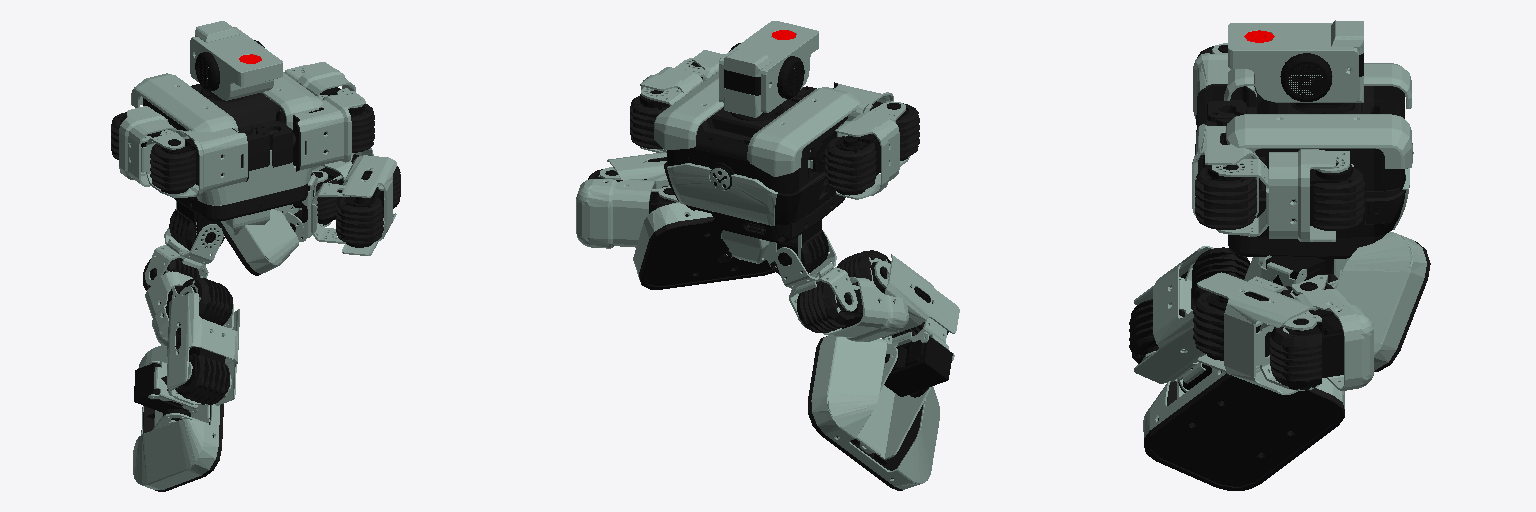
The robot description file, URDF, robot "yanshee":
<?xml version="1.0"?>
<!-- Generated by yanshee_sim/tools/build_models.py from the Webots Yanshee model. Do not edit by hand.
     Joint names are YanAPI servo names; joint position (rad) = servo angle (deg) in radians. -->
<robot name="yanshee">
  <material name="c0"><color rgba="0.1 0.1 0.1 1"/></material>
  <material name="c1"><color rgba="0.13 0.13 0.13 1"/></material>
  <material name="c2"><color rgba="0.58 0.67 0.64 1"/></material>
  <material name="c3"><color rgba="1 0 0 1"/></material>
  <link name="base_link"/>
  <joint name="base_to_torso" type="fixed"><parent link="base_link"/><child link="torso_link"/><origin xyz="0 0 0" rpy="0 0 0"/></joint>
  <link name="torso_link">
    <inertial><origin xyz="-0.00085 0.00213 0.27696" rpy="0 0 0"/><mass value="0.872"/><inertia ixx="0.00160682" ixy="7.04e-06" ixz="9.18e-06" iyy="0.00176299" iyz="5.107e-05" izz="0.00151442"/></inertial>
    <visual><geometry><mesh filename="package://yanshee_description/meshes/base_link_0.stl"/></geometry><material name="c0"/></visual>
    <visual><geometry><mesh filename="package://yanshee_description/meshes/base_link_1.stl"/></geometry><material name="c1"/></visual>
    <visual><geometry><mesh filename="package://yanshee_description/meshes/base_link_2.stl"/></geometry><material name="c2"/></visual>
    <collision><geometry><mesh filename="package://yanshee_description/meshes/base_link_collision.stl"/></geometry></collision>
  </link>
  <link name="RightShoulderRoll_link">
    <inertial><origin xyz="0.00897508 -0.000891211 -1.88508e-06" rpy="0 0 0"/><mass value="0.008"/><inertia ixx="2.11202e-06" ixy="4.92363e-08" ixz="7.42767e-09" iyy="1.05998e-06" iyz="2.46316e-12" izz="2.31e-06"/></inertial>
    <visual><geometry><mesh filename="package://yanshee_description/meshes/RightShoulderRoll_0.stl"/></geometry><material name="c2"/></visual>
    <collision><geometry><mesh filename="package://yanshee_description/meshes/RightShoulderRoll_collision.stl"/></geometry></collision>
  </link>
  <link name="RightShoulderFlex_link">
    <inertial><origin xyz="0.00662606 -0.000726574 -0.00780331" rpy="0 0 0"/><mass value="0.085"/><inertia ixx="3.25733e-05" ixy="4.56914e-08" ixz="9.24368e-06" iyy="3.6612e-05" iyz="-5.48963e-08" izz="2.93867e-05"/></inertial>
    <visual><geometry><mesh filename="package://yanshee_description/meshes/RightShoulderFlex_0.stl"/></geometry><material name="c0"/></visual>
    <visual><geometry><mesh filename="package://yanshee_description/meshes/RightShoulderFlex_1.stl"/></geometry><material name="c1"/></visual>
    <visual><geometry><mesh filename="package://yanshee_description/meshes/RightShoulderFlex_2.stl"/></geometry><material name="c2"/></visual>
    <collision><geometry><mesh filename="package://yanshee_description/meshes/RightShoulderFlex_collision.stl"/></geometry></collision>
  </link>
  <link name="RightElbowFlex_link">
    <inertial><origin xyz="-0.00909435 -0.00012479 -0.0131183" rpy="0 0 0"/><mass value="0.098"/><inertia ixx="6.07977e-05" ixy="-2.85189e-07" ixz="-2.66216e-05" iyy="7.65721e-05" iyz="-3.8096e-07" izz="4.06923e-05"/></inertial>
    <visual><geometry><mesh filename="package://yanshee_description/meshes/RightElbowFlex_0.stl"/></geometry><material name="c0"/></visual>
    <visual><geometry><mesh filename="package://yanshee_description/meshes/RightElbowFlex_1.stl"/></geometry><material name="c1"/></visual>
    <visual><geometry><mesh filename="package://yanshee_description/meshes/RightElbowFlex_2.stl"/></geometry><material name="c2"/></visual>
    <collision><geometry><mesh filename="package://yanshee_description/meshes/RightElbowFlex_collision.stl"/></geometry></collision>
  </link>
  <link name="LeftShoulderRoll_link">
    <inertial><origin xyz="-0.00897771 -0.000885221 -6.14422e-06" rpy="0 0 0"/><mass value="0.008"/><inertia ixx="2.11202e-06" ixy="-4.34998e-08" ixz="-2.51529e-08" iyy="1.05998e-06" iyz="7.83782e-12" izz="2.31e-06"/></inertial>
    <visual><geometry><mesh filename="package://yanshee_description/meshes/LeftShoulderRoll_0.stl"/></geometry><material name="c2"/></visual>
    <collision><geometry><mesh filename="package://yanshee_description/meshes/LeftShoulderRoll_collision.stl"/></geometry></collision>
  </link>
  <link name="LeftShoulderFlex_link">
    <inertial><origin xyz="-0.00662422 -0.000796844 -0.00777867" rpy="0 0 0"/><mass value="0.085"/><inertia ixx="3.2571e-05" ixy="-4.58638e-08" ixz="-9.24408e-06" iyy="3.6612e-05" iyz="-5.52674e-08" izz="2.9389e-05"/></inertial>
    <visual><geometry><mesh filename="package://yanshee_description/meshes/LeftShoulderFlex_0.stl"/></geometry><material name="c0"/></visual>
    <visual><geometry><mesh filename="package://yanshee_description/meshes/LeftShoulderFlex_1.stl"/></geometry><material name="c1"/></visual>
    <visual><geometry><mesh filename="package://yanshee_description/meshes/LeftShoulderFlex_2.stl"/></geometry><material name="c2"/></visual>
    <collision><geometry><mesh filename="package://yanshee_description/meshes/LeftShoulderFlex_collision.stl"/></geometry></collision>
  </link>
  <link name="LeftElbowFlex_link">
    <inertial><origin xyz="0.00903128 -0.000224433 -0.0131983" rpy="0 0 0"/><mass value="0.098"/><inertia ixx="6.03772e-05" ixy="2.87493e-07" ixz="2.67766e-05" iyy="7.65721e-05" iyz="-3.77576e-07" izz="4.11127e-05"/></inertial>
    <visual><geometry><mesh filename="package://yanshee_description/meshes/LeftElbowFlex_0.stl"/></geometry><material name="c0"/></visual>
    <visual><geometry><mesh filename="package://yanshee_description/meshes/LeftElbowFlex_1.stl"/></geometry><material name="c1"/></visual>
    <visual><geometry><mesh filename="package://yanshee_description/meshes/LeftElbowFlex_2.stl"/></geometry><material name="c2"/></visual>
    <collision><geometry><mesh filename="package://yanshee_description/meshes/LeftElbowFlex_collision.stl"/></geometry></collision>
  </link>
  <link name="RightHipLR_link">
    <inertial><origin xyz="0.000508162 -0.000188115 -0.0221787" rpy="0 0 0"/><mass value="0.013"/><inertia ixx="3.83e-06" ixy="1.20899e-08" ixz="8.00086e-08" iyy="3.88198e-06" iyz="9.69836e-08" izz="3.59002e-06"/></inertial>
    <visual><geometry><mesh filename="package://yanshee_description/meshes/RightHipLR_0.stl"/></geometry><material name="c2"/></visual>
    <collision><geometry><mesh filename="package://yanshee_description/meshes/RightHipLR_collision.stl"/></geometry></collision>
  </link>
  <link name="RightHipFB_link">
    <inertial><origin xyz="0.000804837 0.0198936 -0.0200165" rpy="0 0 0"/><mass value="0.14"/><inertia ixx="0.000105442" ixy="1.45879e-07" ixz="6.27895e-08" iyy="7.63611e-05" iyz="2.47906e-05" izz="6.21288e-05"/></inertial>
    <visual><geometry><mesh filename="package://yanshee_description/meshes/RightHipFB_0.stl"/></geometry><material name="c0"/></visual>
    <visual><geometry><mesh filename="package://yanshee_description/meshes/RightHipFB_1.stl"/></geometry><material name="c1"/></visual>
    <visual><geometry><mesh filename="package://yanshee_description/meshes/RightHipFB_2.stl"/></geometry><material name="c2"/></visual>
    <collision><geometry><mesh filename="package://yanshee_description/meshes/RightHipFB_collision.stl"/></geometry></collision>
  </link>
  <link name="RightKneeFlex_link">
    <inertial><origin xyz="-0.000168258 -0.0161649 -0.0419847" rpy="0 0 0"/><mass value="0.094"/><inertia ixx="4.46821e-05" ixy="3.66053e-07" ixz="5.54682e-07" iyy="5.08932e-05" iyz="-8.80772e-06" izz="3.11468e-05"/></inertial>
    <visual><geometry><mesh filename="package://yanshee_description/meshes/RightKneeFlex_0.stl"/></geometry><material name="c0"/></visual>
    <visual><geometry><mesh filename="package://yanshee_description/meshes/RightKneeFlex_1.stl"/></geometry><material name="c1"/></visual>
    <visual><geometry><mesh filename="package://yanshee_description/meshes/RightKneeFlex_2.stl"/></geometry><material name="c2"/></visual>
    <collision><geometry><mesh filename="package://yanshee_description/meshes/RightKneeFlex_collision.stl"/></geometry></collision>
  </link>
  <link name="RightAnkleFB_link">
    <inertial><origin xyz="0.000613193 -0.000785591 -0.0453751" rpy="0 0 0"/><mass value="0.063"/><inertia ixx="1.4352e-05" ixy="7.33984e-08" ixz="-3.61556e-07" iyy="2.08261e-05" iyz="-3.77149e-07" izz="1.79639e-05"/></inertial>
    <visual><geometry><mesh filename="package://yanshee_description/meshes/RightAnkleFB_0.stl"/></geometry><material name="c0"/></visual>
    <visual><geometry><mesh filename="package://yanshee_description/meshes/RightAnkleFB_1.stl"/></geometry><material name="c2"/></visual>
    <collision><geometry><mesh filename="package://yanshee_description/meshes/RightAnkleFB_collision.stl"/></geometry></collision>
  </link>
  <link name="RightAnkleUD_link">
    <inertial><origin xyz="0.0215583 -0.000420083 -0.0208296" rpy="0 0 0"/><mass value="0.093"/><inertia ixx="9.837e-05" ixy="-7.1419e-08" ixz="-1.92894e-06" iyy="6.29135e-05" iyz="1.58262e-06" izz="0.000142479"/></inertial>
    <visual><geometry><mesh filename="package://yanshee_description/meshes/RightAnkleUD_0.stl"/></geometry><material name="c1"/></visual>
    <visual><geometry><mesh filename="package://yanshee_description/meshes/RightAnkleUD_1.stl"/></geometry><material name="c2"/></visual>
    <collision><geometry><mesh filename="package://yanshee_description/meshes/RightAnkleUD_collision.stl"/></geometry></collision>
  </link>
  <link name="LeftHipLR_link">
    <inertial><origin xyz="-0.000492807 -0.000194718 -0.0222317" rpy="0 0 0"/><mass value="0.013"/><inertia ixx="3.83e-06" ixy="1.01631e-08" ixz="-8.00046e-08" iyy="3.88202e-06" iyz="-6.19088e-08" izz="3.58998e-06"/></inertial>
    <visual><geometry><mesh filename="package://yanshee_description/meshes/LeftHipLR_0.stl"/></geometry><material name="c2"/></visual>
    <collision><geometry><mesh filename="package://yanshee_description/meshes/LeftHipLR_collision.stl"/></geometry></collision>
  </link>
  <link name="LeftHipFB_link">
    <inertial><origin xyz="-0.000785601 0.0193734 -0.0197067" rpy="0 0 0"/><mass value="0.14"/><inertia ixx="0.000105442" ixy="-1.48987e-07" ixz="-6.07278e-08" iyy="9.1586e-05" iyz="1.28878e-05" izz="4.6904e-05"/></inertial>
    <visual><geometry><mesh filename="package://yanshee_description/meshes/LeftHipFB_0.stl"/></geometry><material name="c0"/></visual>
    <visual><geometry><mesh filename="package://yanshee_description/meshes/LeftHipFB_1.stl"/></geometry><material name="c1"/></visual>
    <visual><geometry><mesh filename="package://yanshee_description/meshes/LeftHipFB_2.stl"/></geometry><material name="c2"/></visual>
    <collision><geometry><mesh filename="package://yanshee_description/meshes/LeftHipFB_collision.stl"/></geometry></collision>
  </link>
  <link name="LeftKneeFlex_link">
    <inertial><origin xyz="0.000156598 -0.01642 -0.0417244" rpy="0 0 0"/><mass value="0.094"/><inertia ixx="4.46819e-05" ixy="-3.66741e-07" ixz="-5.54996e-07" iyy="5.06368e-05" iyz="-9.08696e-06" izz="3.14033e-05"/></inertial>
    <visual><geometry><mesh filename="package://yanshee_description/meshes/LeftKneeFlex_0.stl"/></geometry><material name="c0"/></visual>
    <visual><geometry><mesh filename="package://yanshee_description/meshes/LeftKneeFlex_1.stl"/></geometry><material name="c1"/></visual>
    <visual><geometry><mesh filename="package://yanshee_description/meshes/LeftKneeFlex_2.stl"/></geometry><material name="c2"/></visual>
    <collision><geometry><mesh filename="package://yanshee_description/meshes/LeftKneeFlex_collision.stl"/></geometry></collision>
  </link>
  <link name="LeftAnkleFB_link">
    <inertial><origin xyz="-0.000552222 -0.00155372 -0.0355275" rpy="0 0 0"/><mass value="0.063"/><inertia ixx="1.4352e-05" ixy="-7.1274e-08" ixz="3.61755e-07" iyy="2.08531e-05" iyz="2.53558e-07" izz="1.79369e-05"/></inertial>
    <visual><geometry><mesh filename="package://yanshee_description/meshes/LeftAnkleFB_0.stl"/></geometry><material name="c0"/></visual>
    <visual><geometry><mesh filename="package://yanshee_description/meshes/LeftAnkleFB_1.stl"/></geometry><material name="c2"/></visual>
    <collision><geometry><mesh filename="package://yanshee_description/meshes/LeftAnkleFB_collision.stl"/></geometry></collision>
  </link>
  <link name="LeftAnkleUD_link">
    <inertial><origin xyz="-0.0215562 -0.000459851 -0.0208287" rpy="0 0 0"/><mass value="0.093"/><inertia ixx="9.837e-05" ixy="7.15654e-08" ixz="1.92898e-06" iyy="6.29236e-05" iyz="1.82058e-06" izz="0.000142468"/></inertial>
    <visual><geometry><mesh filename="package://yanshee_description/meshes/LeftAnkleUD_0.stl"/></geometry><material name="c1"/></visual>
    <visual><geometry><mesh filename="package://yanshee_description/meshes/LeftAnkleUD_1.stl"/></geometry><material name="c2"/></visual>
    <collision><geometry><mesh filename="package://yanshee_description/meshes/LeftAnkleUD_collision.stl"/></geometry></collision>
  </link>
  <link name="NeckLR_link">
    <inertial><origin xyz="1.88386e-06 -0.00829966 0.025858" rpy="0 0 0"/><mass value="0.04"/><inertia ixx="3.0558e-05" ixy="-4.46574e-14" ixz="-1.1132e-14" iyy="1.744e-05" iyz="-3.27e-06" izz="2.8592e-05"/></inertial>
    <visual><geometry><mesh filename="package://yanshee_description/meshes/NeckLR_0.stl"/></geometry><material name="c0"/></visual>
    <visual><geometry><mesh filename="package://yanshee_description/meshes/NeckLR_1.stl"/></geometry><material name="c2"/></visual>
    <visual><geometry><mesh filename="package://yanshee_description/meshes/NeckLR_2.stl"/></geometry><material name="c3"/></visual>
    <collision><geometry><mesh filename="package://yanshee_description/meshes/NeckLR_collision.stl"/></geometry></collision>
  </link>
  <joint name="RightShoulderRoll" type="revolute">
    <parent link="torso_link"/><child link="RightShoulderRoll_link"/>
    <origin xyz="0.0538395 0.0105513 0.302344" rpy="1.57 -0 -0"/>
    <axis xyz="-1 0 0"/>
    <limit lower="0" upper="3.14159" effort="1.15" velocity="6.0"/>
    <dynamics damping="0.12" friction="0.08"/>
  </joint>
  <joint name="RightShoulderFlex" type="revolute">
    <parent link="RightShoulderRoll_link"/><child link="RightShoulderFlex_link"/>
    <origin xyz="0.0230556 -0.00120768 -0.00279554" rpy="-3.14147 -0.701593 3.14125"/>
    <axis xyz="0.000147206 1 1.30023e-07"/>
    <limit lower="0" upper="3.14159" effort="1.15" velocity="6.0"/>
    <dynamics damping="0.12" friction="0.08"/>
  </joint>
  <joint name="RightElbowFlex" type="revolute">
    <parent link="RightShoulderFlex_link"/><child link="RightElbowFlex_link"/>
    <origin xyz="0.0411305 -0.000255519 -0.0471044" rpy="-3.14155 -0.271593 3.14129"/>
    <axis xyz="0.000147206 1 1.30023e-07"/>
    <limit lower="0" upper="3.14159" effort="1.15" velocity="6.0"/>
    <dynamics damping="0.12" friction="0.08"/>
  </joint>
  <joint name="LeftShoulderRoll" type="revolute">
    <parent link="torso_link"/><child link="LeftShoulderRoll_link"/>
    <origin xyz="-0.0538663 0.0114651 0.301204" rpy="-1.57 -0 0"/>
    <axis xyz="1 0 0"/>
    <limit lower="0" upper="3.14159" effort="1.15" velocity="6.0"/>
    <dynamics damping="0.12" friction="0.08"/>
  </joint>
  <joint name="LeftShoulderFlex" type="revolute">
    <parent link="LeftShoulderRoll_link"/><child link="LeftShoulderFlex_link"/>
    <origin xyz="-0.0229143 -2.23978e-06 -6.63678e-06" rpy="0.000158253 -0.7 -5.77847e-05"/>
    <axis xyz="-0.000187875 1 2.46751e-08"/>
    <limit lower="0" upper="3.14159" effort="1.15" velocity="6.0"/>
    <dynamics damping="0.12" friction="0.08"/>
  </joint>
  <joint name="LeftElbowFlex" type="revolute">
    <parent link="LeftShoulderFlex_link"/><child link="LeftElbowFlex_link"/>
    <origin xyz="-0.0390682 -0.00125681 -0.0455804" rpy="5.03823e-05 -0.262 -6.6446e-06"/>
    <axis xyz="-0.000187875 1 2.46751e-08"/>
    <limit lower="0" upper="3.14159" effort="1.15" velocity="6.0"/>
    <dynamics damping="0.12" friction="0.08"/>
  </joint>
  <joint name="RightHipLR" type="revolute">
    <parent link="torso_link"/><child link="RightHipLR_link"/>
    <origin xyz="0.0285146 -0.00180378 0.221984" rpy="0 -1.57 0"/>
    <axis xyz="0 1 0"/>
    <limit lower="0" upper="2.0944" effort="1.15" velocity="6.0"/>
    <dynamics damping="0.12" friction="0.08"/>
  </joint>
  <joint name="RightHipFB" type="revolute">
    <parent link="RightHipLR_link"/><child link="RightHipFB_link"/>
    <origin xyz="4.51266e-05 0.000325669 -0.0440546" rpy="1.05 -7.54015e-05 -4.26103e-05"/>
    <axis xyz="-1 8.6394e-05 -9.18277e-07"/>
    <limit lower="0.174533" upper="3.14159" effort="1.15" velocity="6.0"/>
    <dynamics damping="0.12" friction="0.08"/>
  </joint>
  <joint name="RightKneeFlex" type="revolute">
    <parent link="RightHipFB_link"/><child link="RightKneeFlex_link"/>
    <origin xyz="0.00100219 0.0249258 -0.0433649" rpy="-1.33 8.32021e-05 -6.66828e-05"/>
    <axis xyz="1 -8.6394e-05 9.18277e-07"/>
    <limit lower="0" upper="3.14159" effort="1.15" velocity="6.0"/>
    <dynamics damping="0.12" friction="0.08"/>
  </joint>
  <joint name="RightAnkleFB" type="revolute">
    <parent link="RightKneeFlex_link"/><child link="RightAnkleFB_link"/>
    <origin xyz="-0.00125198 -0.0222689 -0.0459019" rpy="-1.92 7.99472e-05 -0.000116817"/>
    <axis xyz="1 -8.6394e-05 9.18277e-07"/>
    <limit lower="0" upper="3.14159" effort="1.15" velocity="6.0"/>
    <dynamics damping="0.12" friction="0.08"/>
  </joint>
  <joint name="RightAnkleUD" type="revolute">
    <parent link="RightAnkleFB_link"/><child link="RightAnkleUD_link"/>
    <origin xyz="-0.00744517 -0.00152852 -0.0467632" rpy="-1.51113 -1.55082 1.53091"/>
    <axis xyz="8.63185e-05 0.999802 -0.019877"/>
    <limit lower="1.13446" upper="3.14159" effort="1.15" velocity="6.0"/>
    <dynamics damping="0.12" friction="0.08"/>
  </joint>
  <joint name="LeftHipLR" type="revolute">
    <parent link="torso_link"/><child link="LeftHipLR_link"/>
    <origin xyz="-0.0291305 -0.00180378 0.221854" rpy="0 -1.57 0"/>
    <axis xyz="0 1 0"/>
    <limit lower="1.0472" upper="3.14159" effort="1.15" velocity="6.0"/>
    <dynamics damping="0.12" friction="0.08"/>
  </joint>
  <joint name="LeftHipFB" type="revolute">
    <parent link="LeftHipLR_link"/><child link="LeftHipFB_link"/>
    <origin xyz="-2.57395e-05 0.000813951 -0.0439522" rpy="-2.09 6.3342e-05 -0.00010823"/>
    <axis xyz="1 -7.24933e-05 -2.68846e-07"/>
    <limit lower="0" upper="2.96706" effort="1.15" velocity="6.0"/>
    <dynamics damping="0.12" friction="0.08"/>
  </joint>
  <joint name="LeftKneeFlex" type="revolute">
    <parent link="LeftHipFB_link"/><child link="LeftKneeFlex_link"/>
    <origin xyz="6.95862e-06 0.0244177 -0.0427664" rpy="1.81 -7.00967e-05 -8.99303e-05"/>
    <axis xyz="-1 7.24933e-05 2.68846e-07"/>
    <limit lower="0" upper="3.14159" effort="1.15" velocity="6.0"/>
    <dynamics damping="0.12" friction="0.08"/>
  </joint>
  <joint name="LeftAnkleFB" type="revolute">
    <parent link="LeftKneeFlex_link"/><child link="LeftAnkleFB_link"/>
    <origin xyz="0.0012483 -0.0218333 -0.0553637" rpy="1.22 -6.7902e-05 -4.78338e-05"/>
    <axis xyz="-1 7.24933e-05 2.68846e-07"/>
    <limit lower="0" upper="3.14159" effort="1.15" velocity="6.0"/>
    <dynamics damping="0.12" friction="0.08"/>
  </joint>
  <joint name="LeftAnkleUD" type="revolute">
    <parent link="LeftAnkleFB_link"/><child link="LeftAnkleUD_link"/>
    <origin xyz="0.00744843 -0.00232359 -0.0378887" rpy="-1.51334 -1.54784 1.53613"/>
    <axis xyz="7.24682e-05 0.999738 -0.0228713"/>
    <limit lower="0" upper="2.00713" effort="1.15" velocity="6.0"/>
    <dynamics damping="0.12" friction="0.08"/>
  </joint>
  <joint name="NeckLR" type="revolute">
    <parent link="torso_link"/><child link="NeckLR_link"/>
    <origin xyz="-0.000297208 0.00599331 0.320007" rpy="-0 -0 1.57"/>
    <axis xyz="0 0 -1"/>
    <limit lower="0.261799" upper="2.87979" effort="1.15" velocity="6.0"/>
    <dynamics damping="0.12" friction="0.08"/>
  </joint>
  <link name="head_camera_optical_frame"/>
  <joint name="head_camera_joint" type="fixed">
    <parent link="NeckLR_link"/><child link="head_camera_optical_frame"/>
    <origin xyz="1.1884e-05 0.0197003 0.034998" rpy="-1.57159 -0 -3.40429e-09"/>
  </joint>
</robot>

--- What the picture shows (computed from the rendered views, not written in the file) ---
3 views of the same robot in one strip: view 1: azimuth 30°, elevation 25°; view 2: azimuth 150°, elevation 25°; view 3: azimuth 270°, elevation 25° (orthographic).
Model yanshee with 20 links and 19 joints (17 revolute, 2 fixed), rooted at base_link, posed joints at zero except 4 at the middle of their limits (RightHipFB = 1.66, RightAnkleUD = 2.14, LeftHipLR = 2.09, NeckLR = 1.57).
Links seen in each view (by area): view 1: torso_link, LeftAnkleUD_link, LeftKneeFlex_link, LeftElbowFlex_link, RightElbowFlex_link, NeckLR_link, RightKneeFlex_link, LeftHipFB_link, LeftShoulderFlex_link, RightAnkleUD_link, LeftAnkleFB_link, LeftHipLR_link (+3 smaller); view 2: torso_link, LeftAnkleUD_link, NeckLR_link, RightAnkleUD_link, LeftHipFB_link, LeftShoulderFlex_link, RightHipFB_link, LeftAnkleFB_link, LeftKneeFlex_link, RightShoulderFlex_link, LeftHipLR_link, LeftElbowFlex_link (+2 smaller); view 3: torso_link, LeftAnkleUD_link, NeckLR_link, RightShoulderFlex_link, RightKneeFlex_link, RightHipFB_link, RightAnkleUD_link, LeftKneeFlex_link, RightElbowFlex_link, LeftElbowFlex_link, RightAnkleFB_link, LeftHipFB_link (+1 smaller).
Link boxes in pixels (bbox=[...]): torso_link: bbox=[131, 72, 322, 250]; LeftAnkleUD_link: bbox=[133, 345, 223, 491]; LeftKneeFlex_link: bbox=[167, 287, 239, 405]; LeftElbowFlex_link: bbox=[150, 125, 269, 197]; RightElbowFlex_link: bbox=[256, 95, 374, 171]; NeckLR_link: bbox=[190, 21, 282, 101]; RightKneeFlex_link: bbox=[336, 155, 396, 255]; LeftHipFB_link: bbox=[143, 258, 232, 346]; LeftShoulderFlex_link: bbox=[111, 106, 188, 195]; RightAnkleUD_link: bbox=[215, 209, 303, 275]; LeftAnkleFB_link: bbox=[134, 361, 231, 420]; LeftHipLR_link: bbox=[145, 224, 223, 285]; torso_link: bbox=[654, 71, 860, 278]; LeftAnkleUD_link: bbox=[808, 336, 939, 490]; NeckLR_link: bbox=[719, 21, 818, 120]; RightAnkleUD_link: bbox=[633, 202, 774, 289]; LeftHipFB_link: bbox=[797, 250, 908, 341]; LeftShoulderFlex_link: bbox=[825, 101, 909, 199]; RightHipFB_link: bbox=[576, 169, 675, 248]; LeftAnkleFB_link: bbox=[883, 318, 954, 397]; LeftKneeFlex_link: bbox=[874, 254, 959, 338]; RightShoulderFlex_link: bbox=[630, 58, 704, 153]; LeftHipLR_link: bbox=[775, 231, 857, 327]; LeftElbowFlex_link: bbox=[792, 82, 919, 160]; torso_link: bbox=[1224, 63, 1413, 282]; LeftAnkleUD_link: bbox=[1143, 368, 1344, 490]; NeckLR_link: bbox=[1228, 20, 1363, 113]; RightShoulderFlex_link: bbox=[1212, 149, 1365, 241]; RightKneeFlex_link: bbox=[1193, 272, 1318, 394]; RightHipFB_link: bbox=[1270, 282, 1373, 390]; RightAnkleUD_link: bbox=[1244, 231, 1430, 371]; LeftKneeFlex_link: bbox=[1129, 246, 1213, 383]; RightElbowFlex_link: bbox=[1192, 119, 1258, 229]; LeftElbowFlex_link: bbox=[1193, 45, 1256, 127]; RightAnkleFB_link: bbox=[1248, 255, 1324, 293]; LeftHipFB_link: bbox=[1192, 247, 1249, 305].
Size in the robot's own frame: 0.2565 by 0.1727 by 0.334 metres.
Meshes: 42 distinct files referenced, 41 mesh visuals loaded (41 binary STL); not drawn: 1 (reference not matched to a file when rendering).
